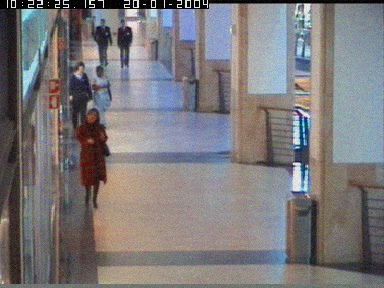person: (75, 108, 109, 208), (67, 60, 89, 132), (92, 65, 112, 127), (93, 18, 111, 66), (117, 17, 133, 66)
